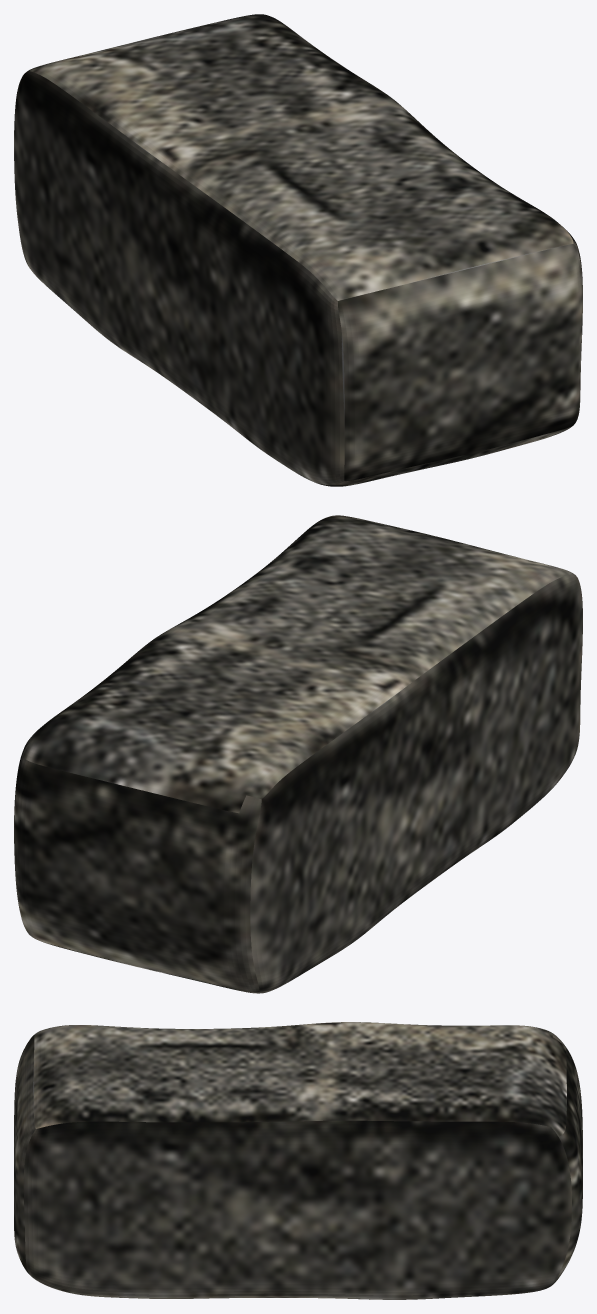
File: brick.fbx
3 views of the same model, one above another, from view 1: azimuth 30°, elevation 25°; view 2: azimuth 150°, elevation 25°; view 3: azimuth 270°, elevation 25° (orthographic). The views are drawn at different scales.
Parts seen in each view (by area): view 1: Cube; view 2: Cube; view 3: Cube.
Boxes of the visible parts, left/top/right/bottom form: Cube: left=14, top=14, right=582, bottom=486; Cube: left=14, top=515, right=582, bottom=993; Cube: left=14, top=1022, right=582, bottom=1299.
Size of the model in its own units: 29.78 by 25.35 by 69.54.
1 material, 1 textured.
